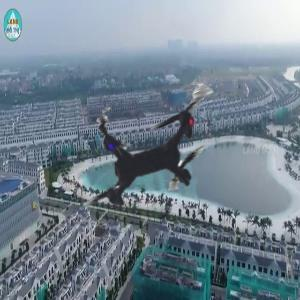drone: (24, 27, 277, 280)
